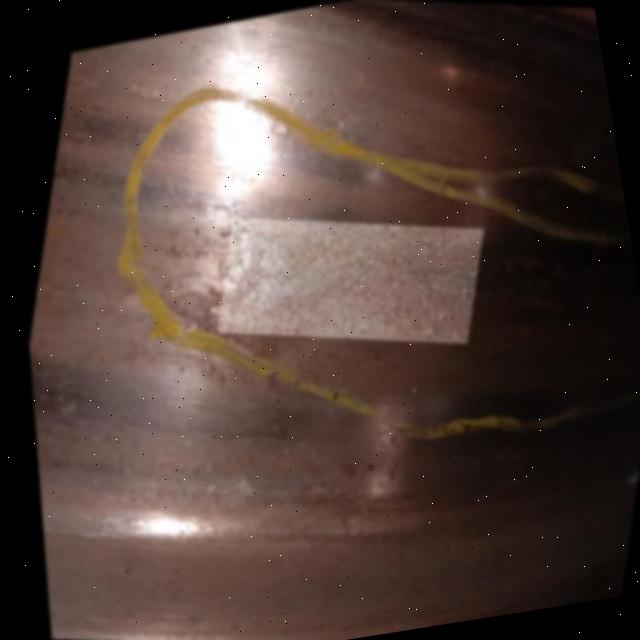flat: (161, 167, 517, 423)
